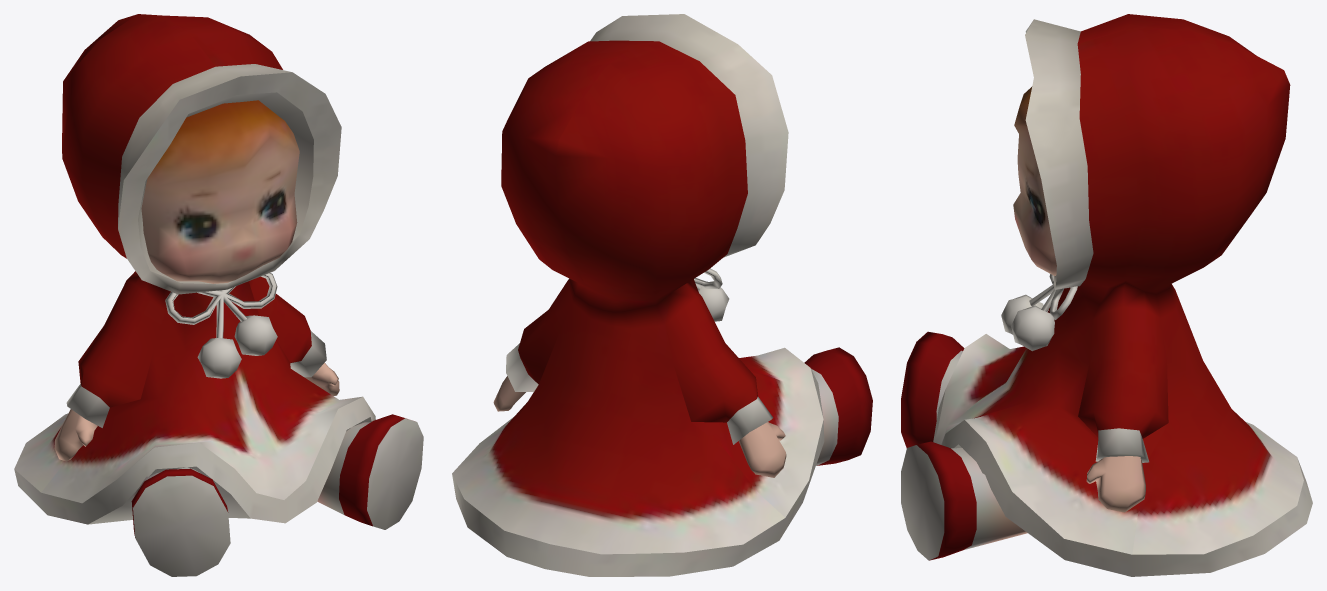
3 renders of one model, left to right at view 1: azimuth 30°, elevation 25°; view 2: azimuth 150°, elevation 25°; view 3: azimuth 270°, elevation 25°, orthographic. The views are drawn at different scales.
Bounding box in the file's own units: 5.66 × 8.17 × 6.39.
1 material, 1 textured.
